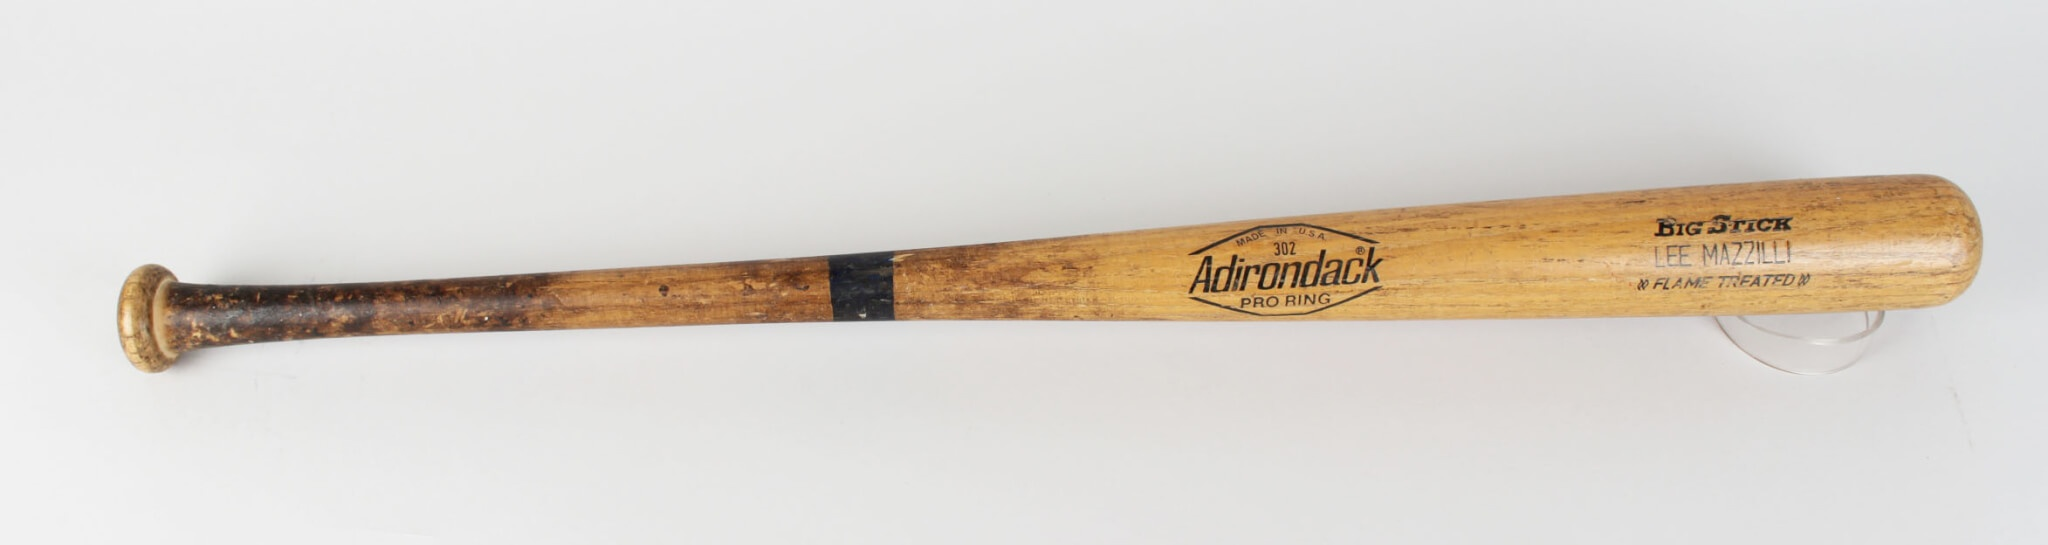bita: (153, 180, 1993, 369)
